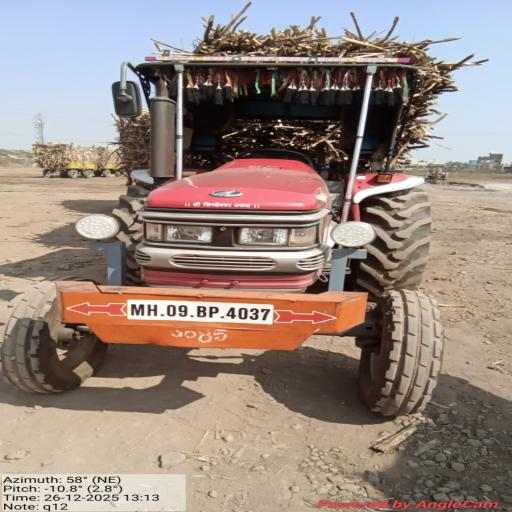number_plate: (123, 287, 291, 341)
